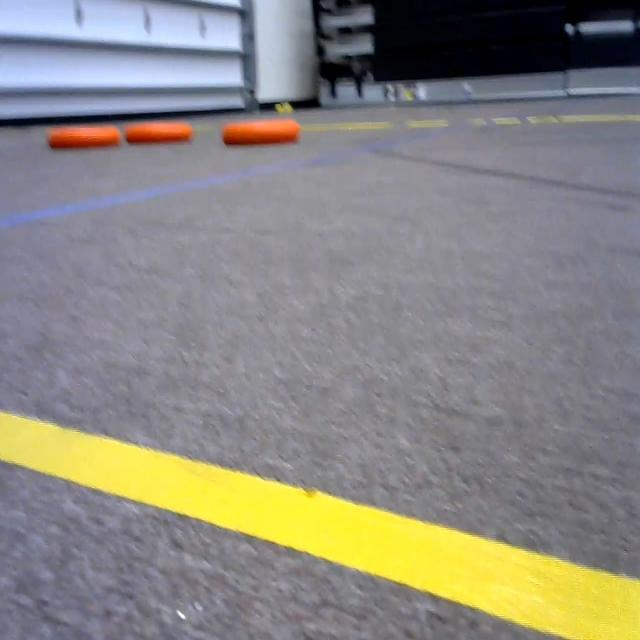note: (38, 106, 122, 157), (218, 114, 306, 150), (123, 120, 196, 145)
